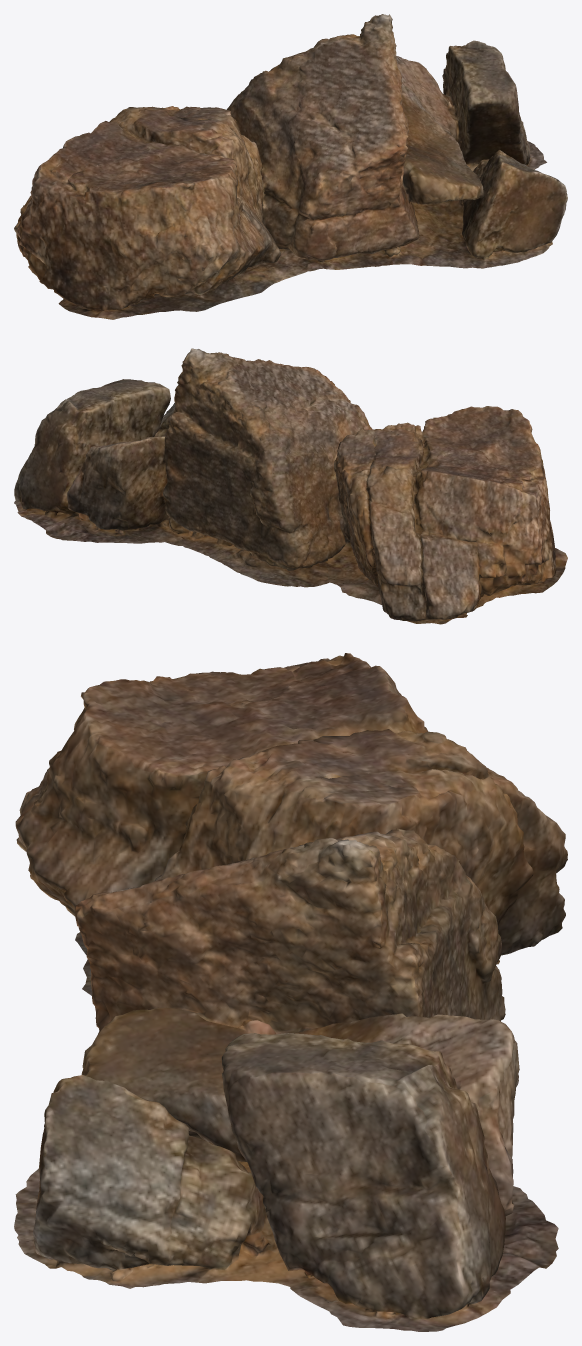
The model's file is namaqualand_boulder_02.glb.
3 renders of one model, top to bottom at view 1: azimuth 30°, elevation 25°; view 2: azimuth 150°, elevation 25°; view 3: azimuth 270°, elevation 25°, orthographic. The views are drawn at different scales.
Size of the model in its own units: 2.53 by 0.8825 by 1.23.
Materials: 1 (1 with a texture image).
